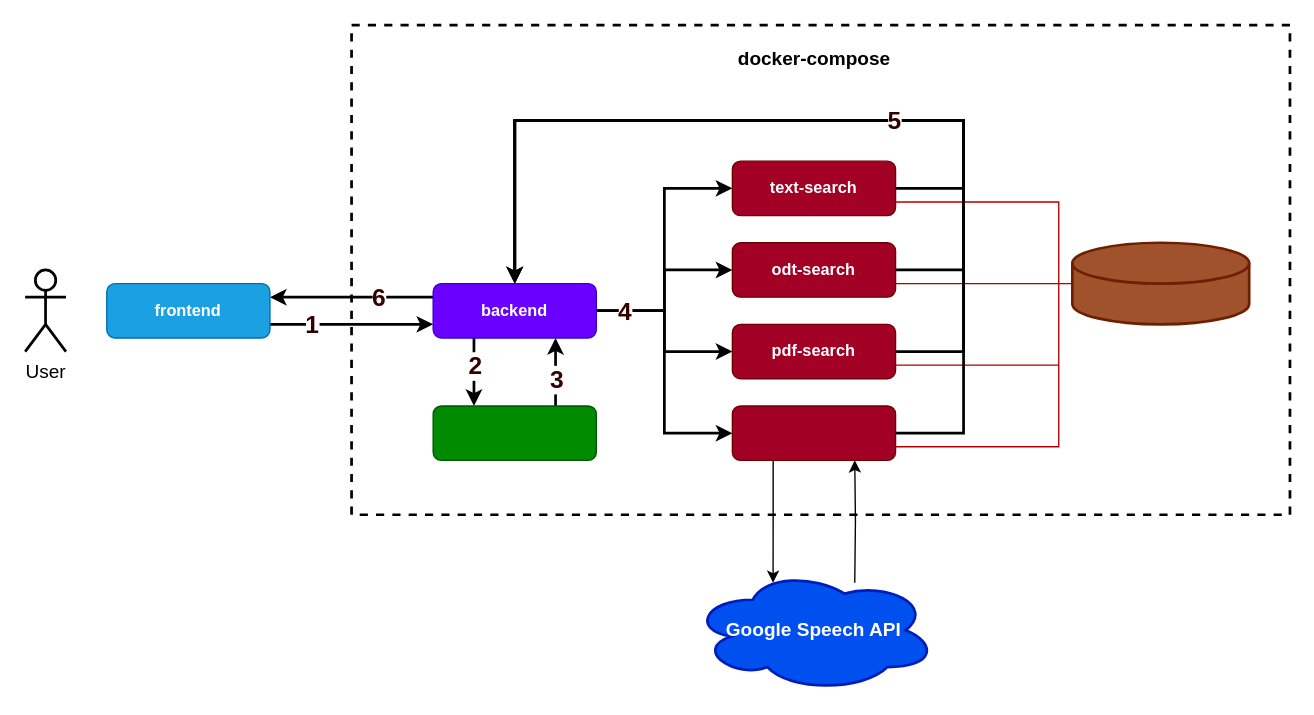
This 1314x715 diagram has some shape labels left out. The shapes that lost their labels are listed below. From the top down, each one's centre as x and y in pixels, then its label:
At [1160,283]: "file system".
At [514,432]: "translations".
At [813,432]: "audio-search".
